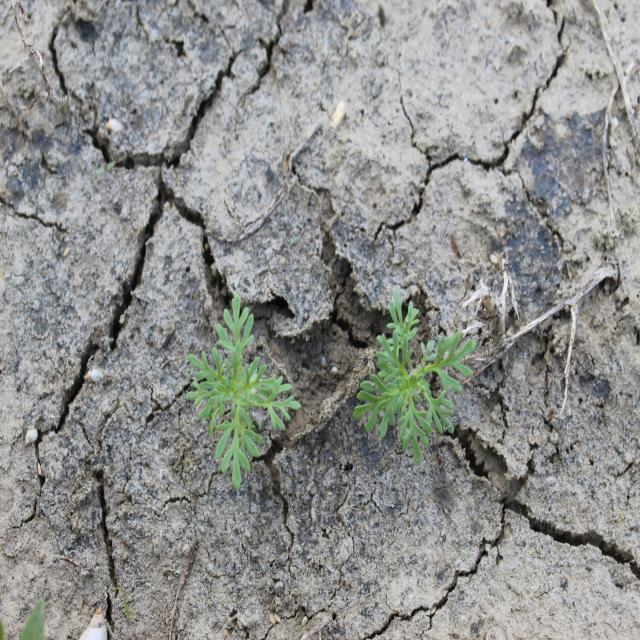Ragweed: (184, 292, 303, 494), (351, 288, 478, 468)
